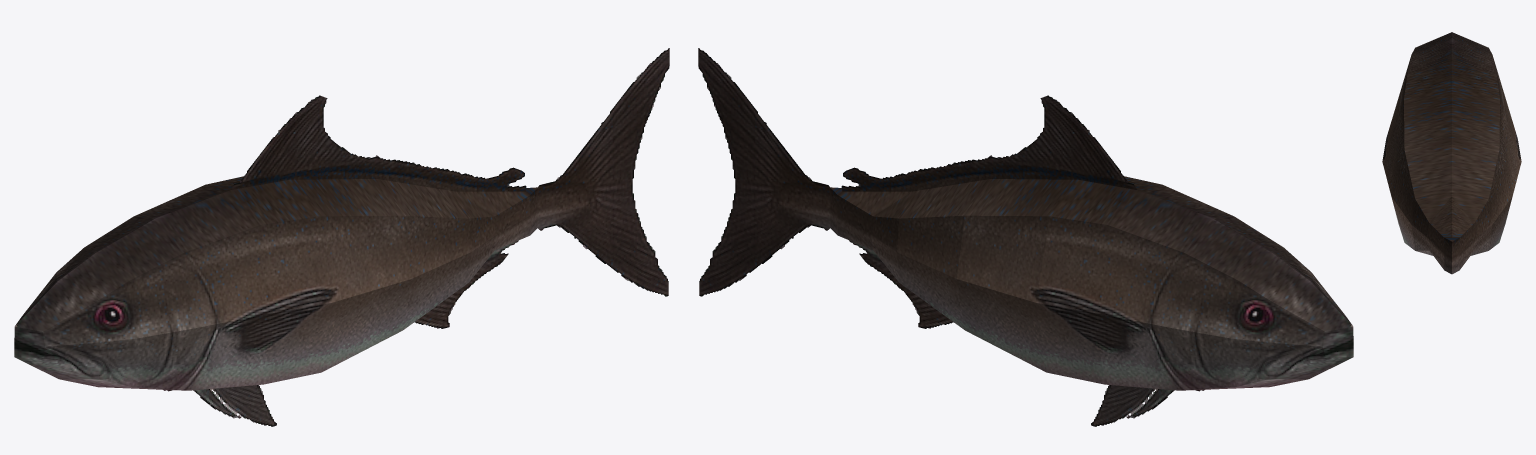
Rendered from Thornblotch.fbx.
3 renders of one model, left to right at view 1: azimuth 30°, elevation 25°; view 2: azimuth 150°, elevation 25°; view 3: azimuth 270°, elevation 25°, orthographic. The views are drawn at different scales.
Visible parts, largest first — view 1: Tuna; view 2: Tuna; view 3: Tuna.
Boxes of the visible parts, box(x1,y1,x2,y2) form: Tuna: box(14, 48, 669, 426); Tuna: box(698, 48, 1353, 426); Tuna: box(1382, 32, 1521, 274).
Size of the model in its own units: 179 by 90.23 by 40.63.
Materials: 1 (1 with a texture image).
